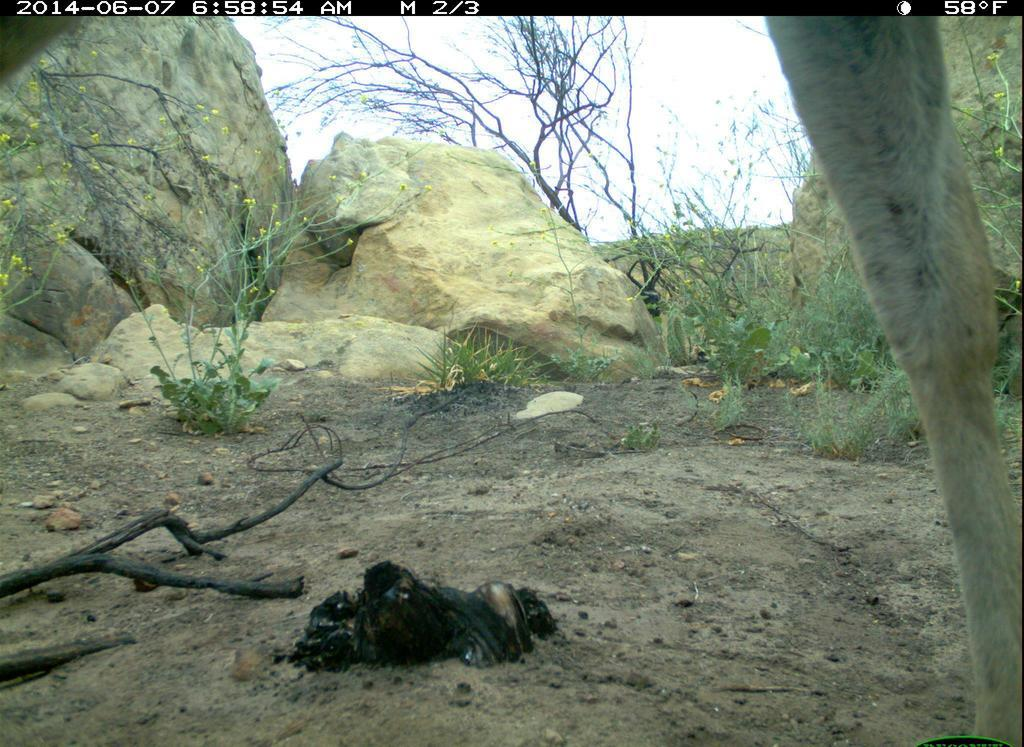deer: (711, 17, 1010, 713)
